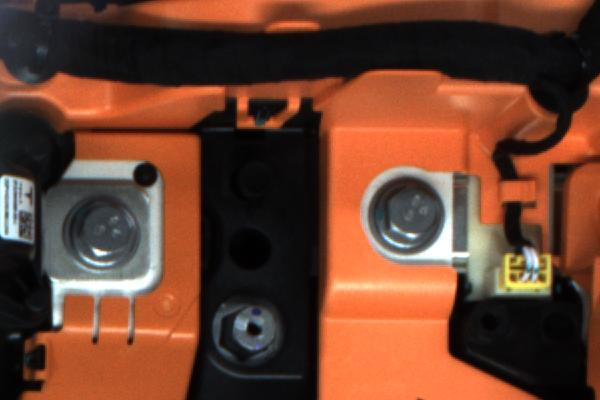nut_b: (58, 196, 154, 276), (366, 176, 447, 258)
